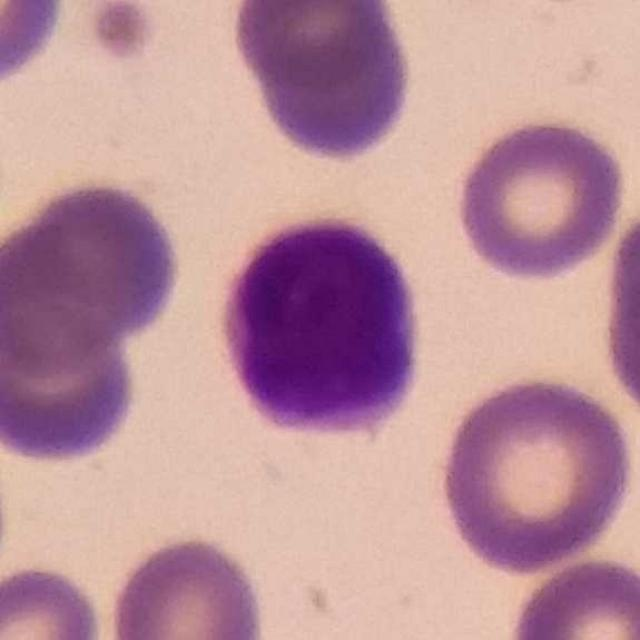Lymphocyte: (210, 208, 432, 449)
Platelets: (86, 1, 159, 66)
RBC: (432, 370, 639, 576), (0, 174, 186, 370), (452, 114, 630, 282), (237, 3, 420, 166), (0, 304, 142, 467), (104, 531, 270, 640), (504, 552, 640, 640), (594, 196, 640, 433), (0, 561, 107, 640), (0, 0, 72, 94)
